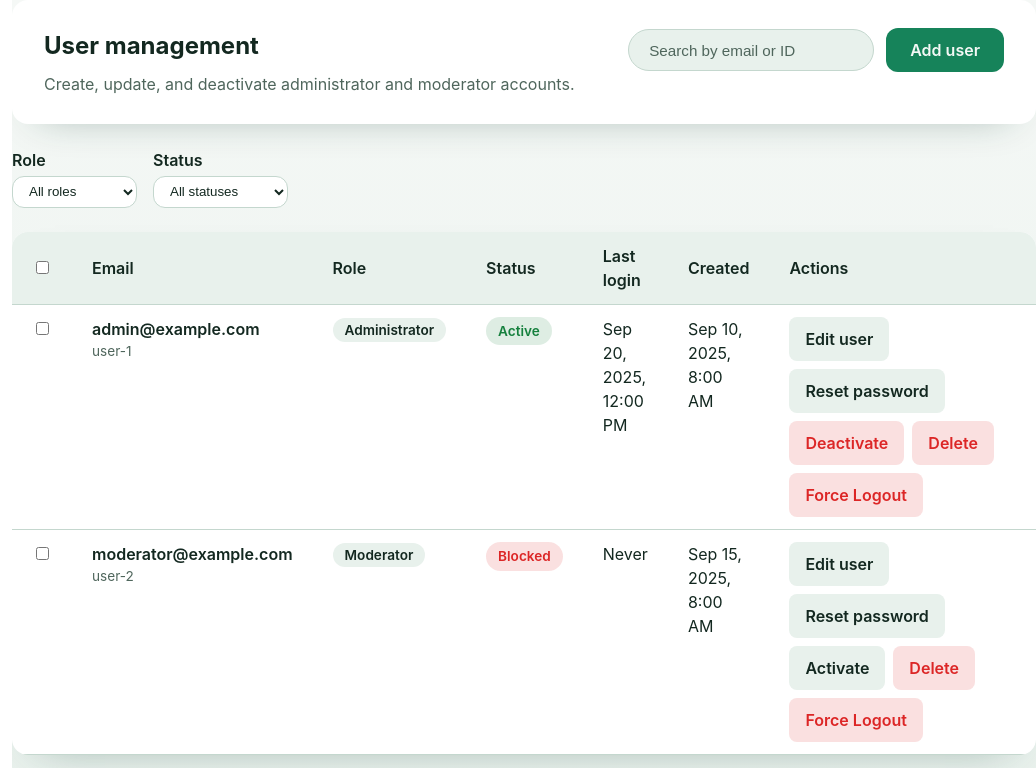
Test: UsersManagementView › shows the translated MAIL_UNAVAILABLE message when reset-password answers 503
Expected: the text "admin@example.com" is shown, x1=92 y1=319 x2=260 y2=339
Click the button "Reset password" below "Active" at (867, 391), box x1=789 y1=369 x2=945 y2=413
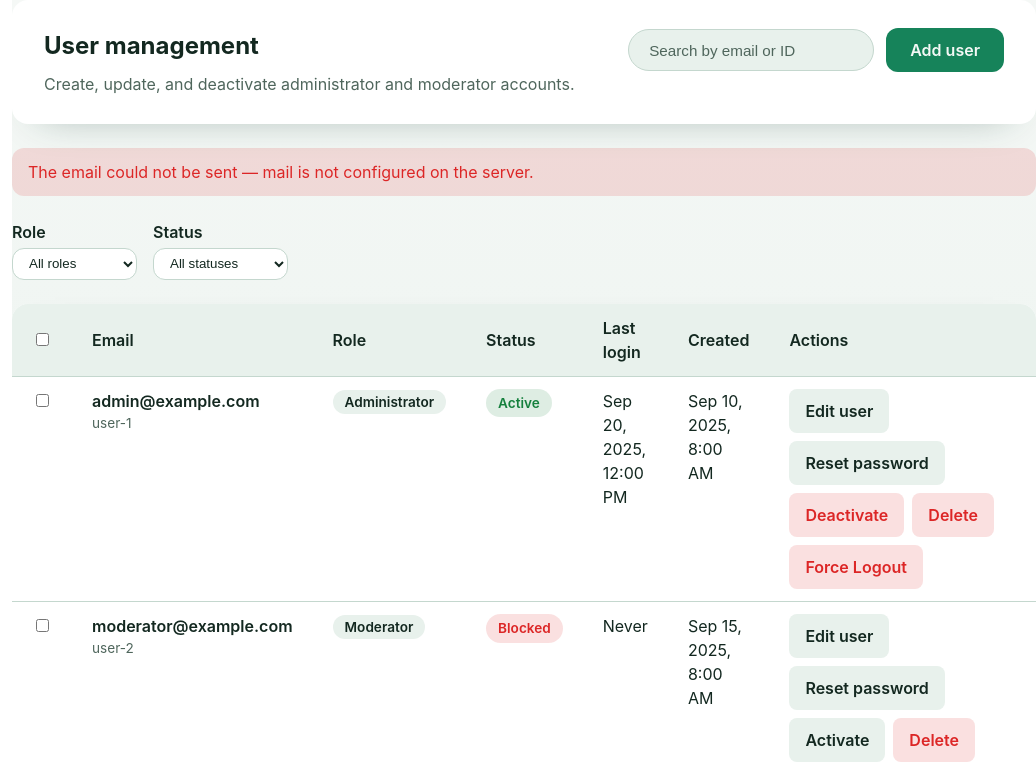
Expected: the message does not show "Password reset email could not be sent", x1=12 y1=148 x2=1035 y2=196
Result: the message reads "The email could not be sent — mail is not configured on the server." at x1=28 y1=162 x2=534 y2=182
